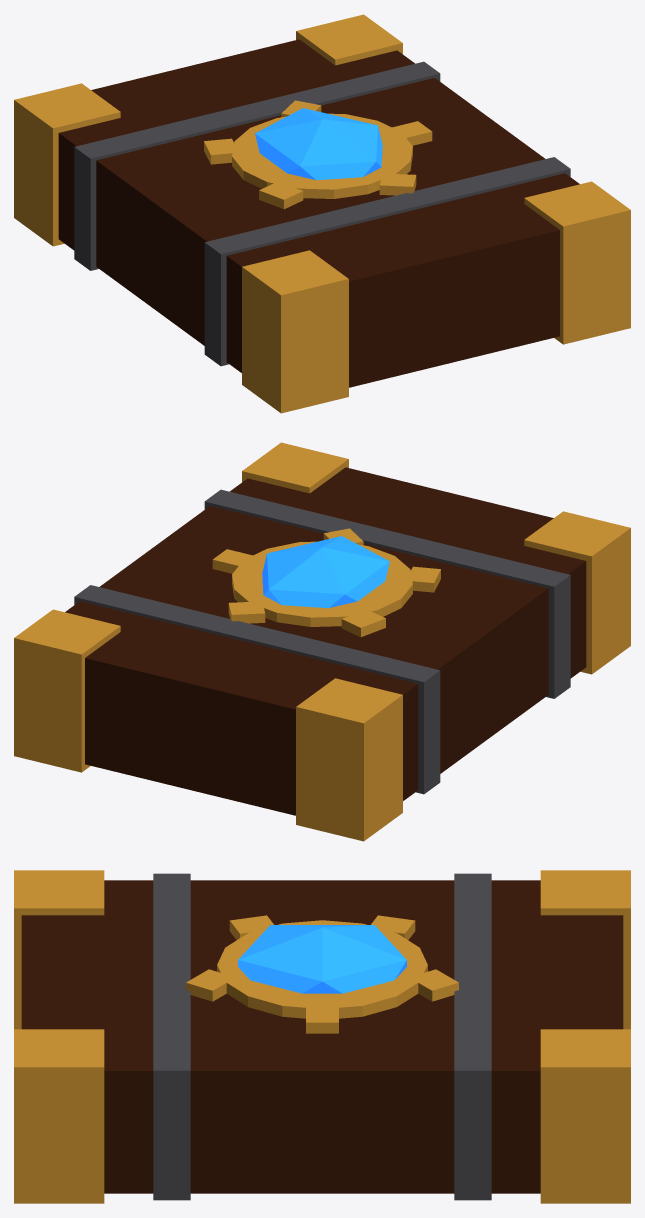
The model's file is grudge-book.glb.
3 views of the same model, one above another, from view 1: azimuth 30°, elevation 25°; view 2: azimuth 150°, elevation 25°; view 3: azimuth 270°, elevation 25° (orthographic). The views are drawn at different scales.
Visible parts, largest first — view 1: grudge-book; view 2: grudge-book; view 3: grudge-book.
Boxes of the visible parts, left/top/right/bottom form: grudge-book: left=14, top=14, right=630, bottom=413; grudge-book: left=14, top=442, right=630, bottom=841; grudge-book: left=14, top=870, right=630, bottom=1203.
Bounding box in the file's own units: 0.31 × 0.1303 × 0.41.
